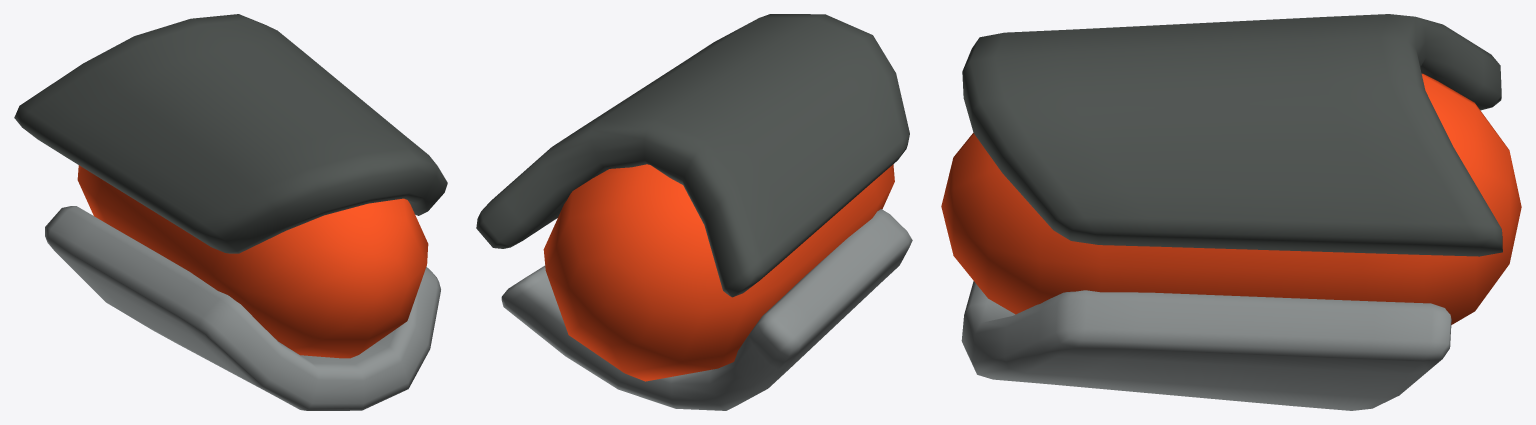
File: xsens_RightSecondMP.dae
3 renders of one model, left to right at view 1: azimuth 30°, elevation 25°; view 2: azimuth 150°, elevation 25°; view 3: azimuth 270°, elevation 25°, orthographic. The views are drawn at different scales.
Visible parts, largest first — view 1: RightSecondMP; view 2: RightSecondMP; view 3: RightSecondMP.
Part boxes in pixels (x1=…): RightSecondMP: x1=14, y1=14, x2=447, y2=410; RightSecondMP: x1=476, y1=14, x2=912, y2=410; RightSecondMP: x1=941, y1=14, x2=1521, y2=410.
Bounding box in the file's own units: 0.0185 × 0.0267 × 0.0182.
